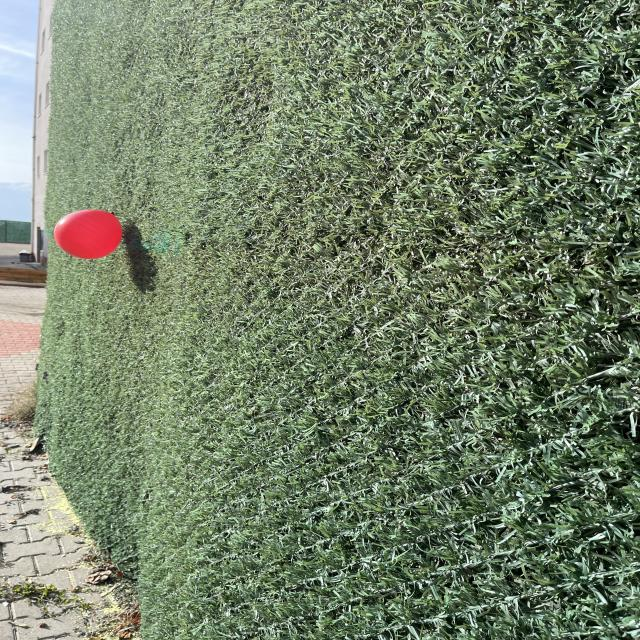balloon: (54, 210, 121, 259)
